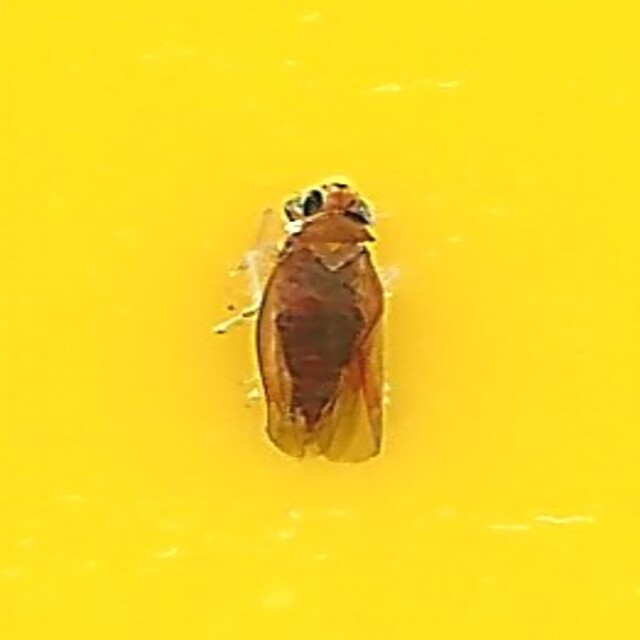Hemiptera: (245, 177, 395, 463)
